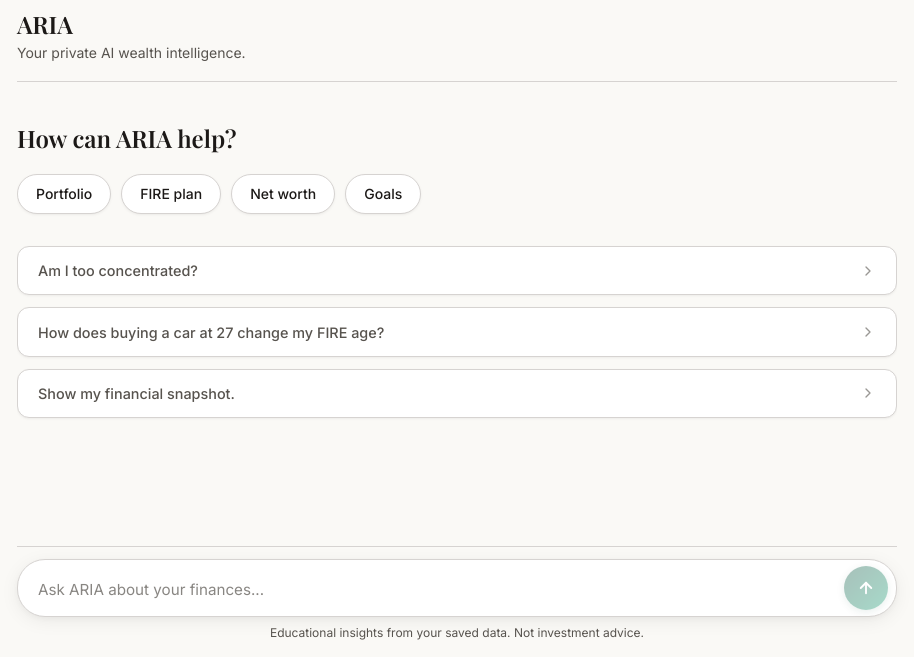
Test: Advisory interactive chat UI › topic chip sends mapped financial prompt and shows pending three-dot animation plus safe status
Click the button "Portfolio" at (64, 194), box [17, 174, 111, 214]
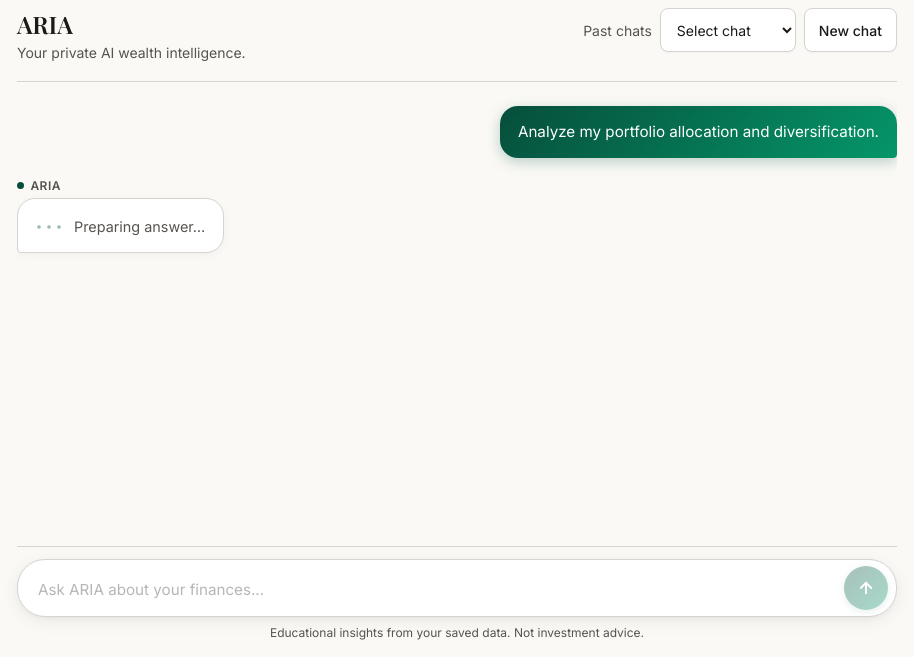
Now the text "Analyze my portfolio allocation and diversification." is shown, box [500, 106, 897, 158]
Now the number of elements with class "advisory-dot" is 3, box [37, 225, 41, 229]; [47, 225, 51, 229]; [57, 225, 61, 229]
Now the text "Preparing answer…" is shown, box [74, 216, 205, 238]
